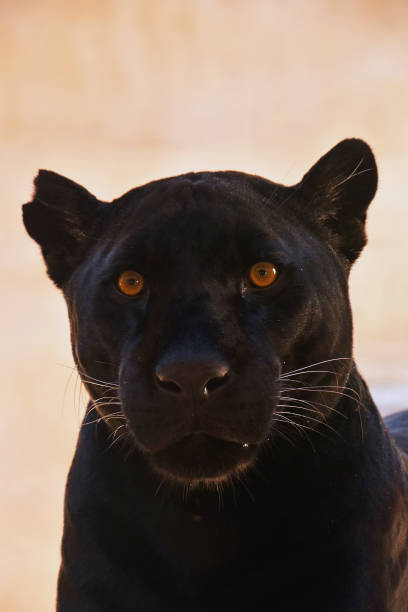panther: (7, 120, 394, 514)
